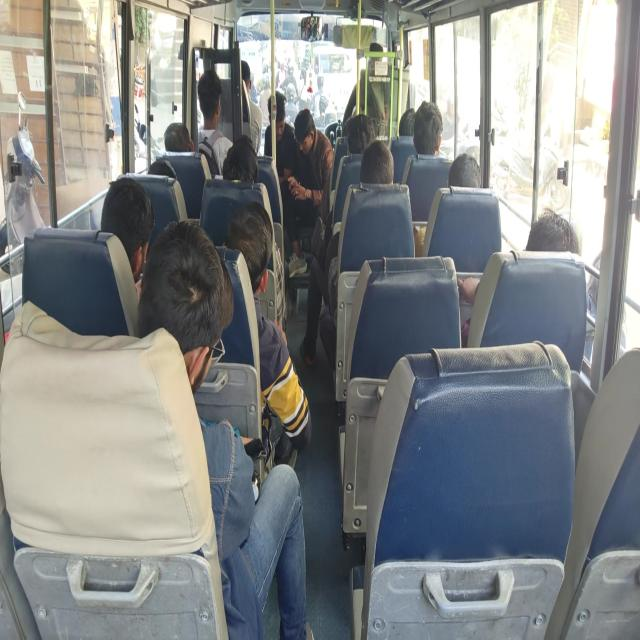person: (140, 227, 213, 351), (110, 175, 156, 281), (212, 197, 272, 272), (520, 209, 582, 261), (364, 139, 398, 206), (219, 145, 258, 200), (412, 88, 438, 159), (196, 72, 227, 131), (264, 88, 294, 136), (292, 111, 318, 160), (147, 160, 180, 198), (162, 122, 188, 164), (452, 152, 477, 194), (228, 61, 253, 97), (230, 128, 263, 155), (346, 116, 370, 148), (399, 102, 419, 140)
